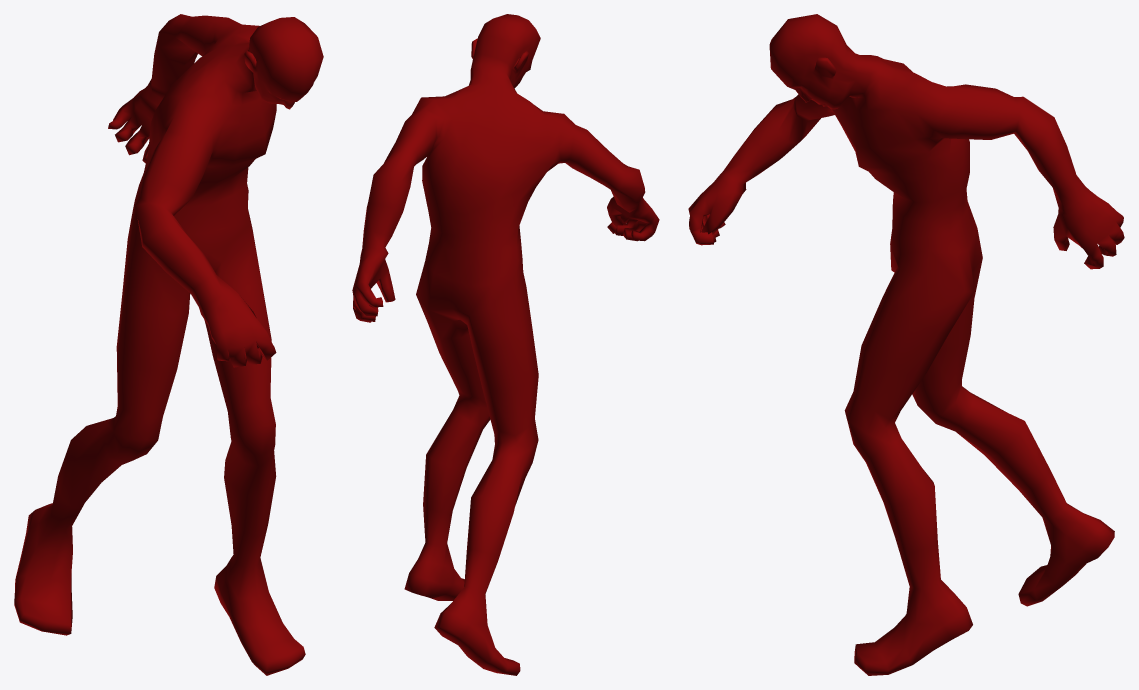
The model's file is attack_3.obj.
The picture shows the model from 3 angles, left to right: view 1: azimuth 30°, elevation 25°; view 2: azimuth 150°, elevation 25°; view 3: azimuth 270°, elevation 25°; orthographic projection. The views are drawn at different scales.
Visible parts, largest first — view 1: Low_Poly_Characte.000_Mesh.001; view 2: Low_Poly_Characte.000_Mesh.001; view 3: Low_Poly_Characte.000_Mesh.001.
Part boxes in pixels (bbox=[...]): Low_Poly_Characte.000_Mesh.001: bbox=[14, 14, 323, 675]; Low_Poly_Characte.000_Mesh.001: bbox=[352, 14, 659, 675]; Low_Poly_Characte.000_Mesh.001: bbox=[688, 14, 1124, 675].
Bounding box in the file's own units: 0.927 × 2.9 × 1.8.
